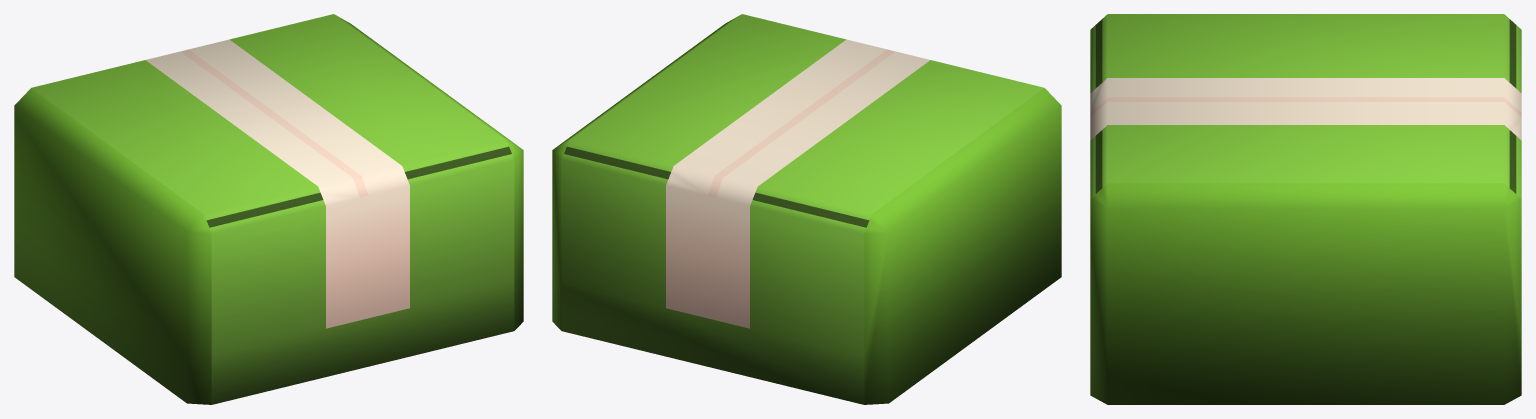
The model's file is package_2.fbx.
3 views of the same model, side by side, from view 1: azimuth 30°, elevation 25°; view 2: azimuth 150°, elevation 25°; view 3: azimuth 270°, elevation 25° (orthographic). The views are drawn at different scales.
Parts seen in each view (by area): view 1: Package_2; view 2: Package_2; view 3: Package_2.
Part boxes in pixels (<box>): Package_2: <box>14,14,523,404</box>; Package_2: <box>552,14,1061,404</box>; Package_2: <box>1090,14,1521,404</box>.
Bounding box in the file's own units: 144 × 75.76 × 140.
